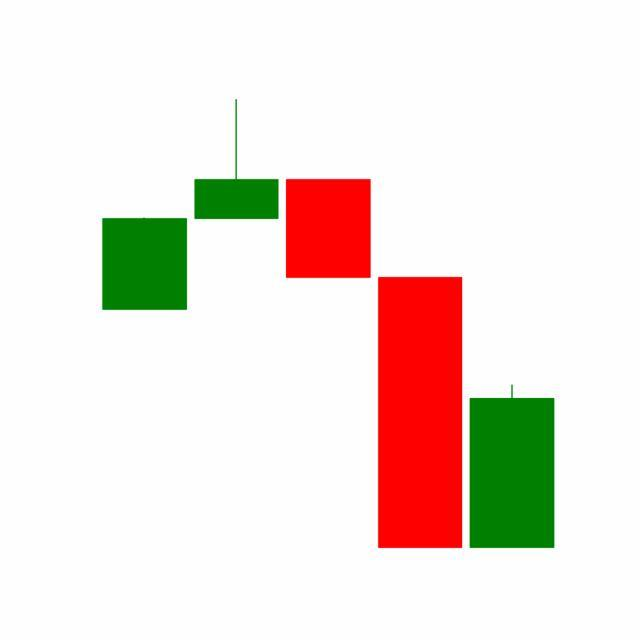Marubozu: (466, 383, 559, 551)
